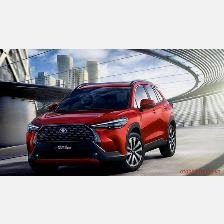NON-EV: (27, 80, 180, 173)
